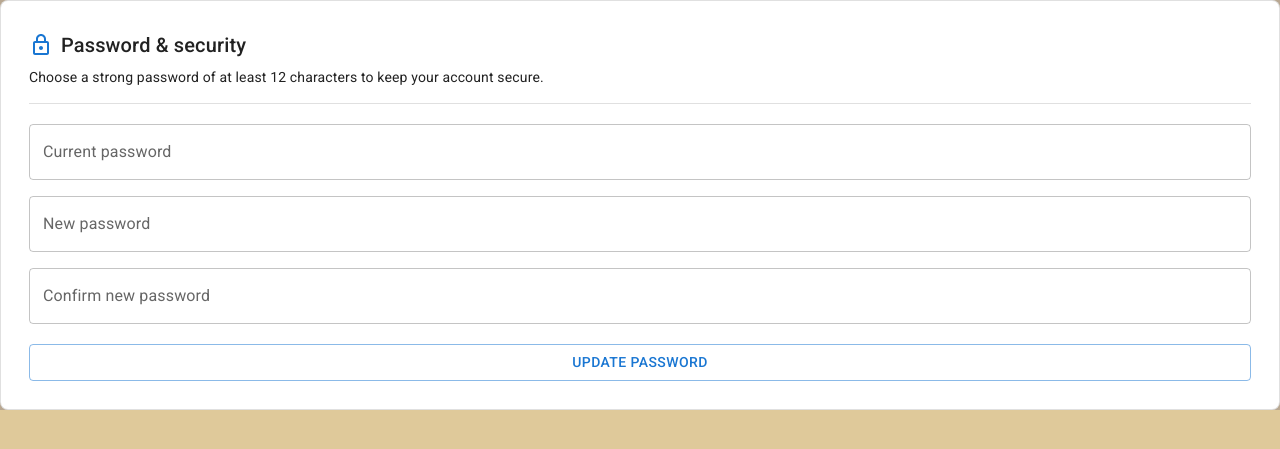
Test: SecurityPasswordForm › prevents mismatched confirmation from reaching the service
Type "current-password" into the password field labelled "Current password" at (640, 152), box x1=29 y1=124 x2=1251 y2=180
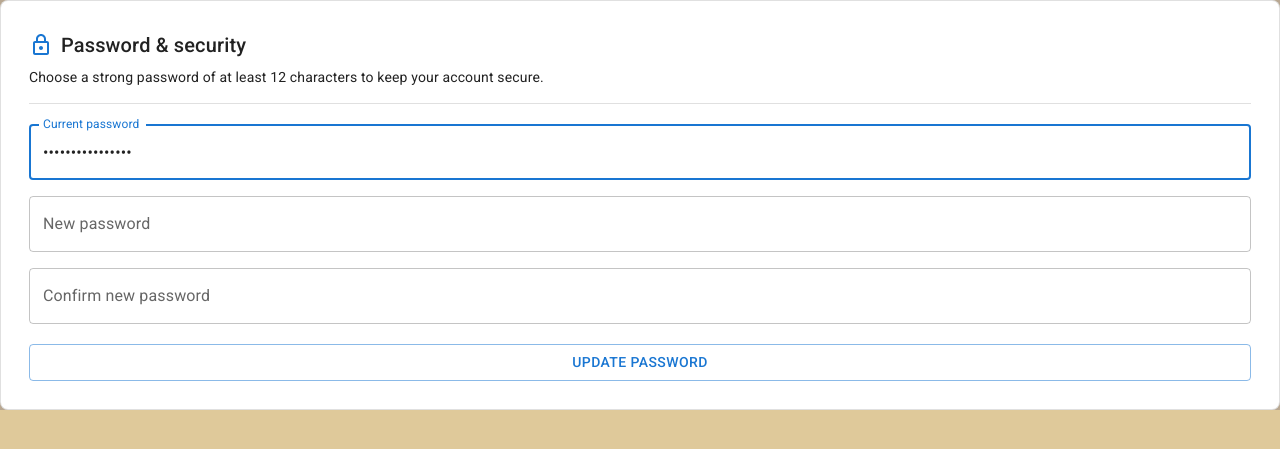
Type "new-password" into the password field labelled "New password" at (640, 224), box x1=29 y1=196 x2=1251 y2=252
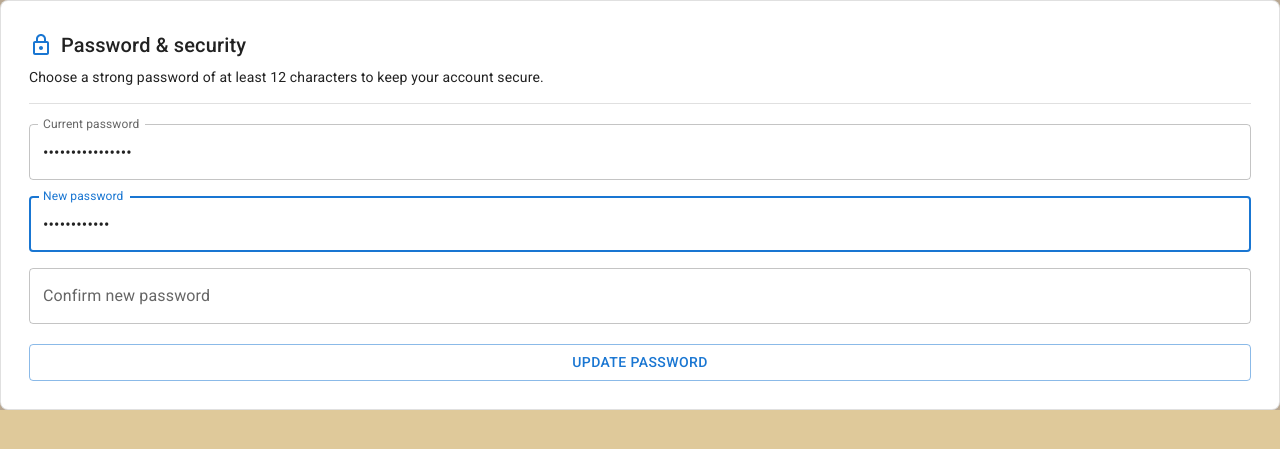
Type "different-password" into the password field labelled "Confirm new password" at (640, 296), box x1=29 y1=268 x2=1251 y2=324
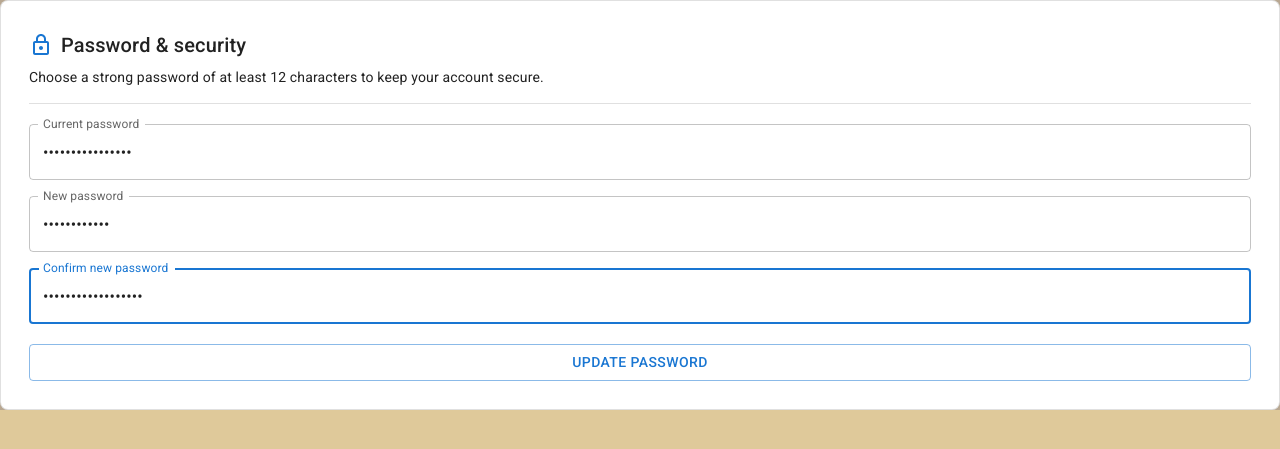
Click the button "Update password" at (640, 362), box x1=29 y1=344 x2=1251 y2=380
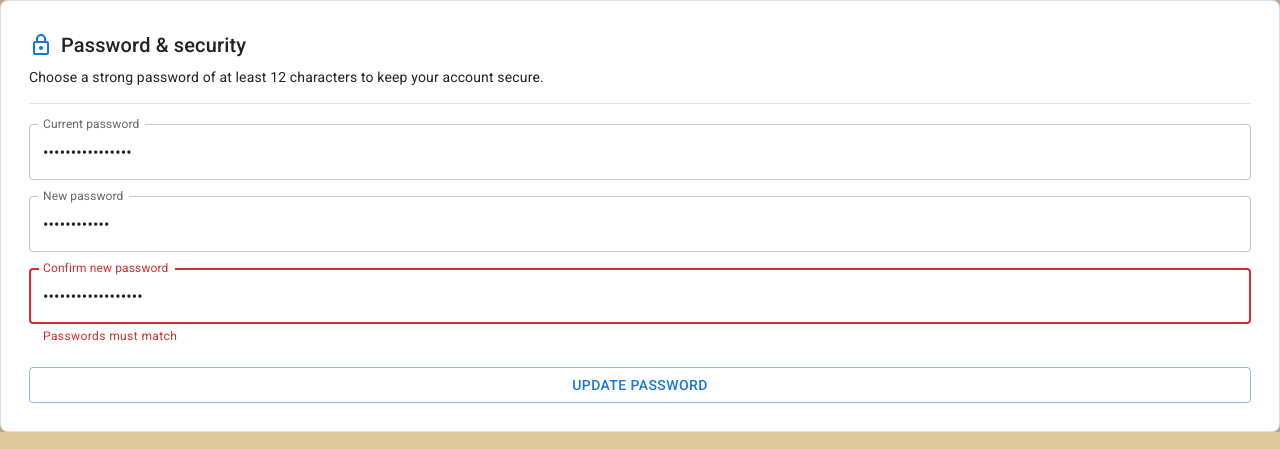
Check: the text "Passwords must match" is shown, box x1=43 y1=329 x2=177 y2=343
